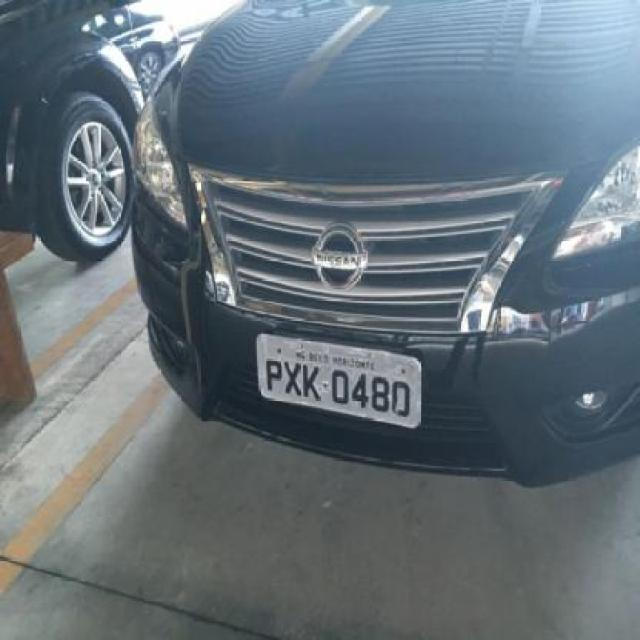old_plate: (253, 329, 428, 436)
